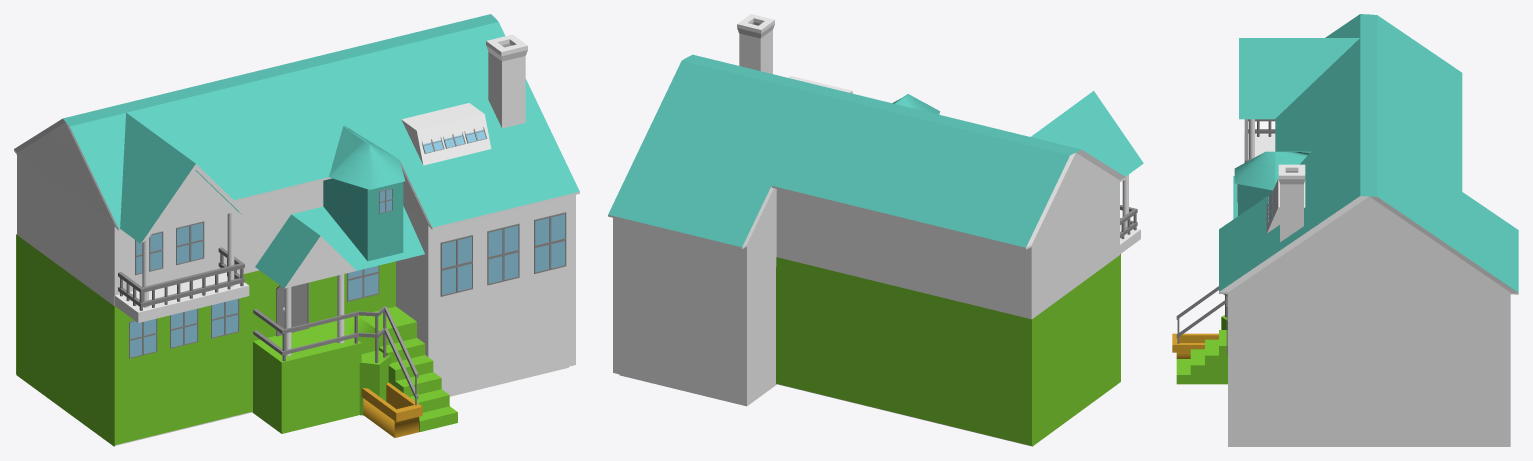
3 views of the same model, side by side, from view 1: azimuth 30°, elevation 25°; view 2: azimuth 150°, elevation 25°; view 3: azimuth 270°, elevation 25° (orthographic). The views are drawn at different scales.
Parts seen in each view (by area): view 1: Prism006, Prism001, Plane002, Plane003, Box001, Prism002, Cone001, Box002, Prism003, Prism005, Plane001, Box003 (+7 smaller); view 2: Prism006, Prism001, Plane004, Plane003, Prism002, Plane001; view 3: Prism006, Prism001, Prism002, Cone001, Box002, Plane001, Box388, Prism005, Box003, L-Ext001.
Part boxes in pixels (x1,y1,x2,y2): Prism006: (70, 14, 579, 395); Prism001: (14, 15, 568, 445); Plane002: (114, 261, 395, 444); Plane003: (16, 235, 114, 446); Box001: (252, 323, 361, 433); Prism002: (82, 113, 250, 243); Cone001: (323, 125, 405, 261); Box002: (329, 306, 457, 431); Prism003: (255, 214, 356, 288); Prism005: (401, 103, 491, 165); Plane001: (486, 34, 527, 128); Box003: (115, 272, 249, 322); Prism006: (608, 54, 1069, 403); Prism001: (615, 56, 1125, 446); Plane004: (776, 257, 1031, 445); Plane003: (1032, 254, 1120, 446); Prism002: (1031, 91, 1143, 199); Plane001: (737, 14, 774, 73); Prism006: (1219, 17, 1518, 446); Prism001: (1219, 14, 1518, 288); Prism002: (1239, 38, 1359, 119); Cone001: (1234, 151, 1310, 215); Box002: (1176, 330, 1227, 384); Plane001: (1278, 164, 1305, 241); Box388: (1172, 333, 1218, 358); Prism005: (1266, 179, 1305, 233); Box003: (1244, 134, 1275, 162); L-Ext001: (1176, 286, 1227, 338).
Size of the model in its own units: 60.92 by 41 by 48.74.
